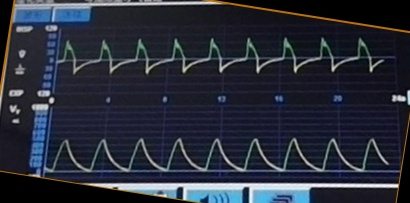Accumulation Flow: (61, 31, 384, 88)
Volume: (50, 118, 390, 179)
